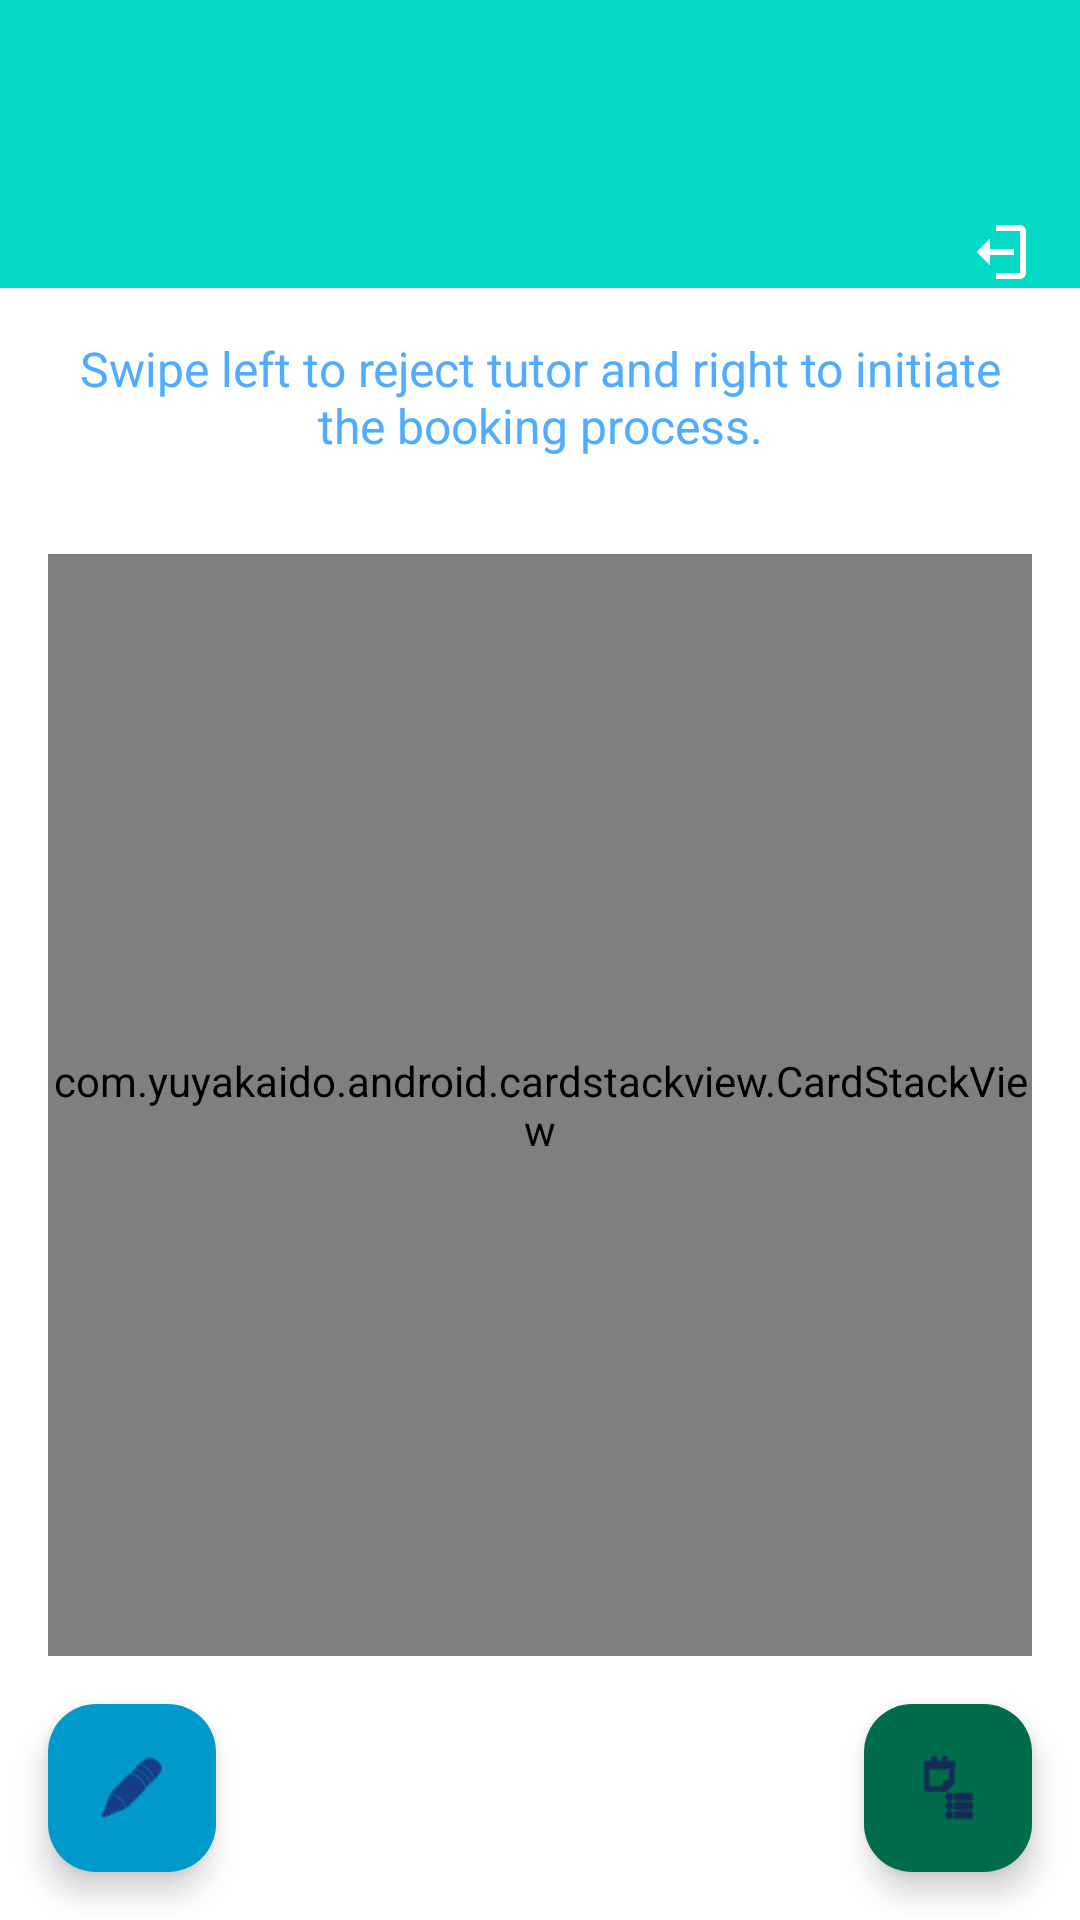

Icons on this 1080×1920 Android screen, each with the point to tap as [x,y]:
View Accepted Bookings: [948,1788]
